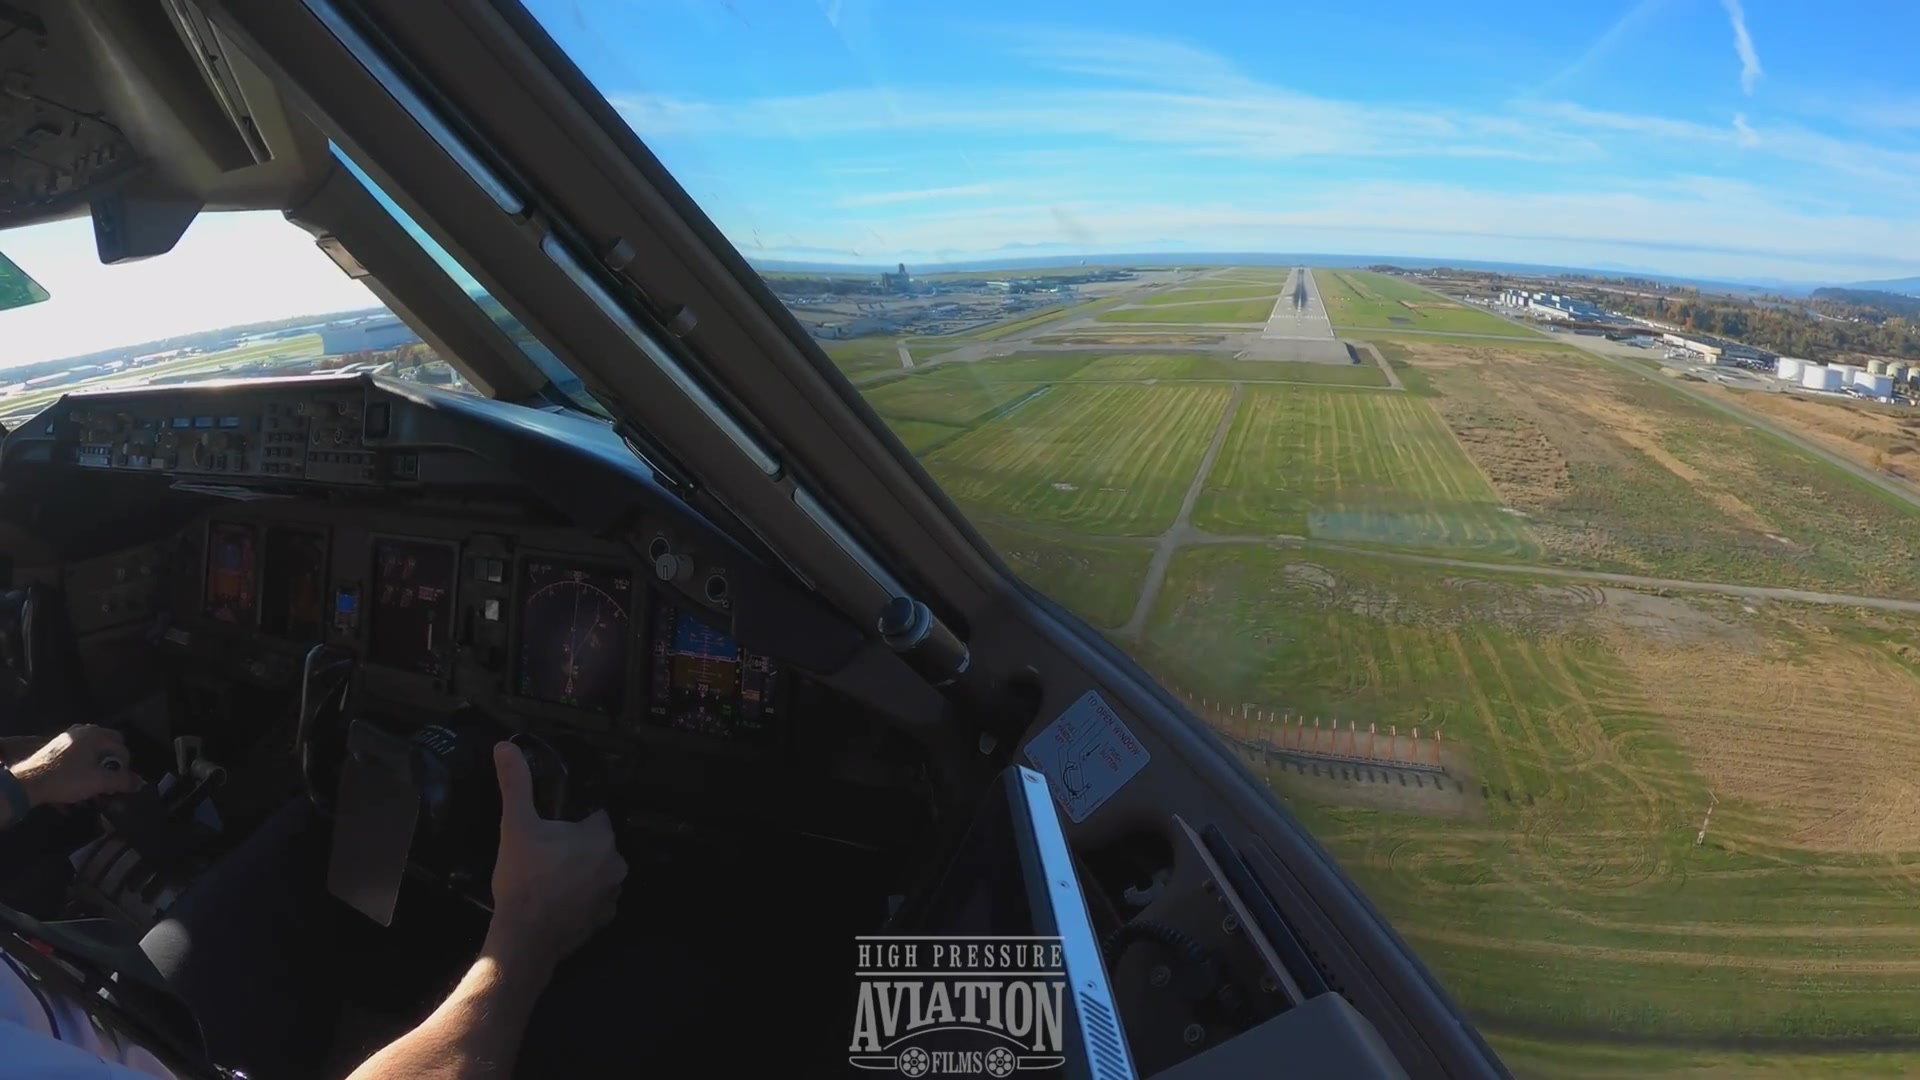runway: (1265, 262, 1335, 340)
